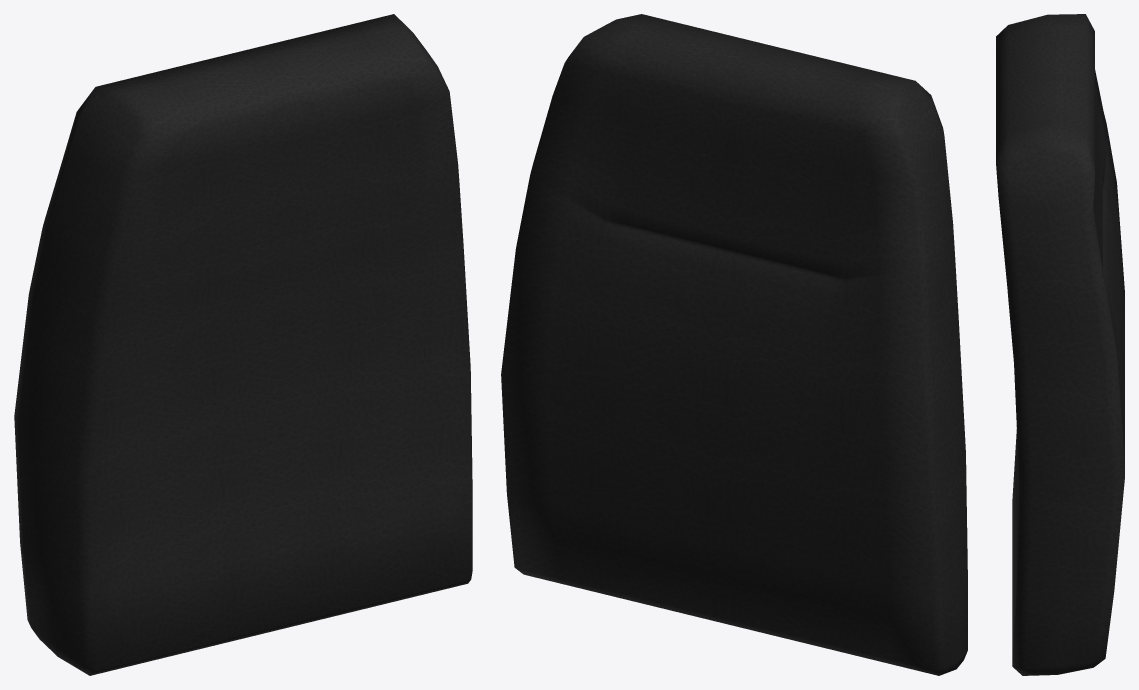
3 views of the same model, side by side, from view 1: azimuth 30°, elevation 25°; view 2: azimuth 150°, elevation 25°; view 3: azimuth 270°, elevation 25° (orthographic). The views are drawn at different scales.
Parts seen in each view (by area): view 1: part1:back 1; view 2: part1:back 1; view 3: part1:back 1.
Part boxes in pixels (x1,y1,x2,y2): part1:back 1: [14, 14, 472, 675]; part1:back 1: [501, 14, 967, 675]; part1:back 1: [996, 14, 1124, 675].
Size of the model in its own units: 0.4676 by 0.5891 by 0.1337.
1 material, 1 textured.
